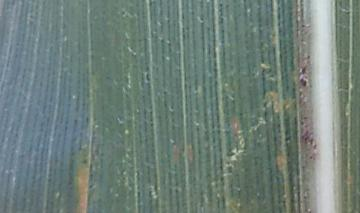tarspot: (299, 77, 308, 89), (298, 64, 308, 73)
